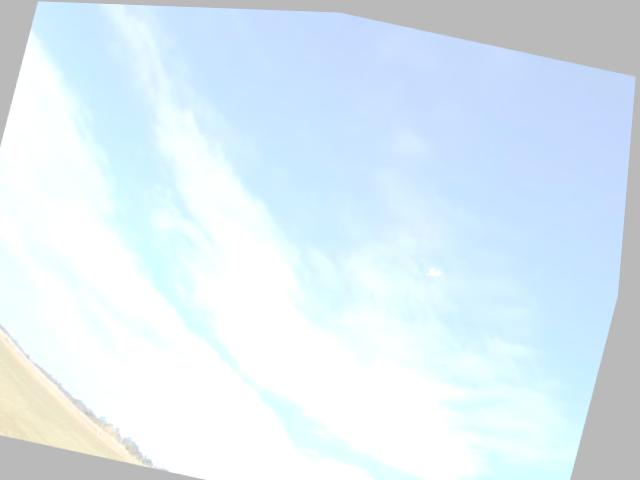uav: (422, 255, 449, 279)
